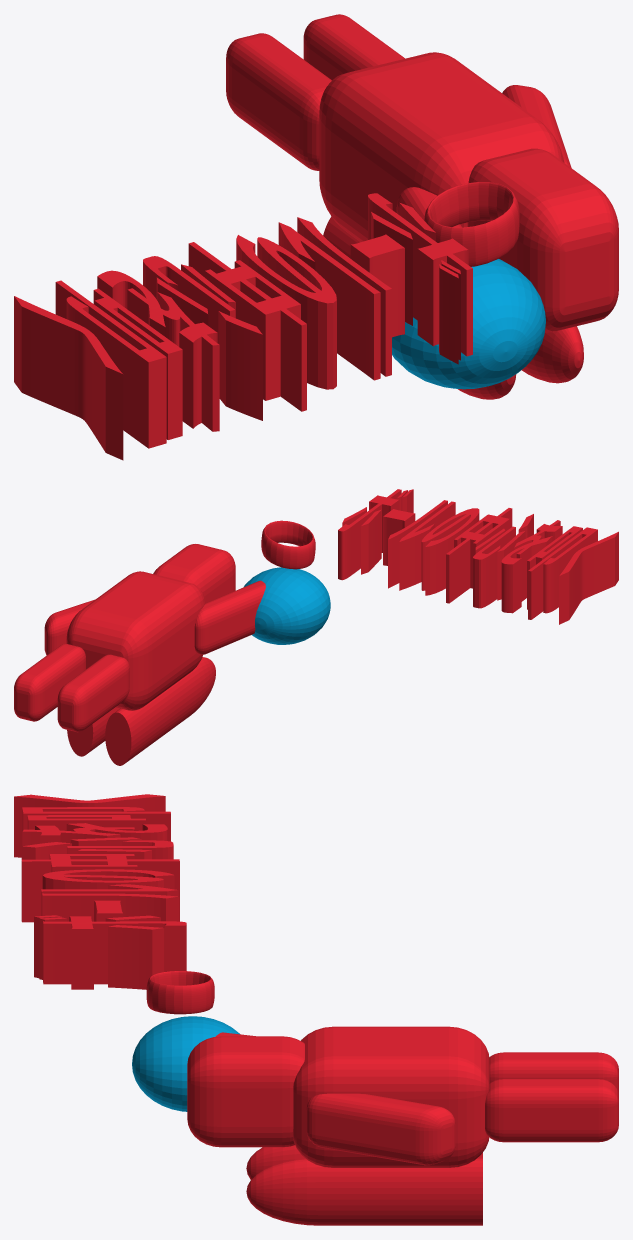
File: tinker.obj
The picture shows the model from 3 angles, top to bottom: view 1: azimuth 30°, elevation 25°; view 2: azimuth 150°, elevation 25°; view 3: azimuth 270°, elevation 25°; orthographic projection. The views are drawn at different scales.
Parts seen in each view (by area): view 1: group_0_15277357, group_0_40919; view 2: group_0_15277357, group_0_40919; view 3: group_0_15277357, group_0_40919.
Boxes of the visible parts, x1,y1,x2,y2 form: group_0_15277357: [14, 14, 618, 460]; group_0_40919: [392, 259, 545, 389]; group_0_15277357: [14, 489, 618, 765]; group_0_40919: [244, 567, 330, 644]; group_0_15277357: [14, 794, 618, 1225]; group_0_40919: [132, 1016, 239, 1111].
Size of the model in its own units: 96.62 by 39 by 99.37.
